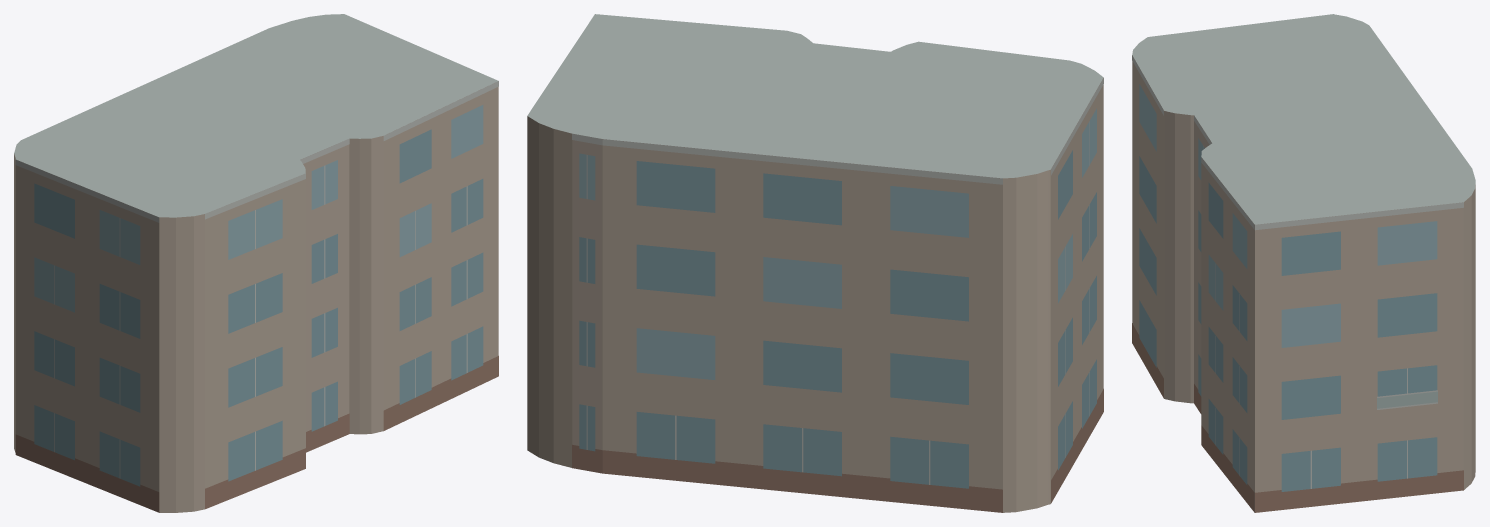
The model's file is survey-upis-32772895.glb.
3 renders of one model, left to right at view 1: azimuth 30°, elevation 25°; view 2: azimuth 150°, elevation 25°; view 3: azimuth 270°, elevation 25°, orthographic. The views are drawn at different scales.
Visible parts, largest first — view 1: survey-upis-32772895.tmp; view 2: survey-upis-32772895.tmp; view 3: survey-upis-32772895.tmp.
Boxes of the visible parts, x1,y1,x2,y2 form: survey-upis-32772895.tmp: [14, 14, 498, 512]; survey-upis-32772895.tmp: [527, 14, 1103, 512]; survey-upis-32772895.tmp: [1132, 14, 1475, 512].
Bounding box in the file's own units: 20.09 × 12.8 × 13.84.
